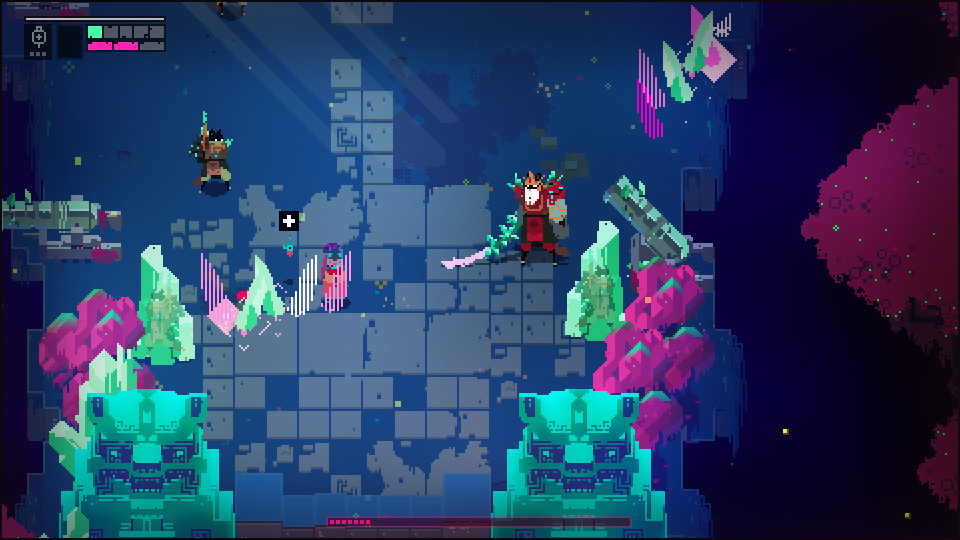hanged_crys: (193, 258, 239, 336), (232, 277, 271, 352), (677, 10, 715, 77), (630, 77, 665, 142), (285, 255, 321, 318)
hanged_man: (475, 166, 575, 267)
player: (318, 246, 349, 308)
